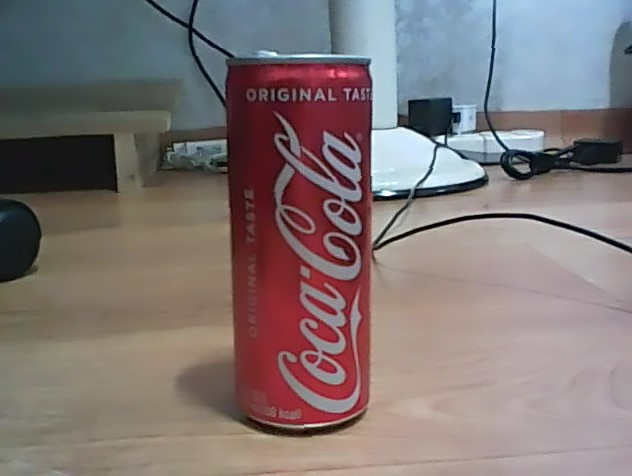Can: (220, 43, 382, 444)
